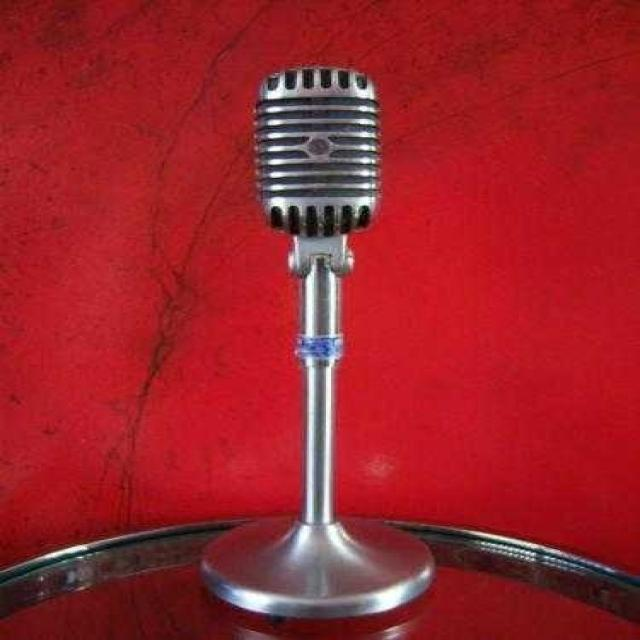microphone: (249, 66, 406, 258)
